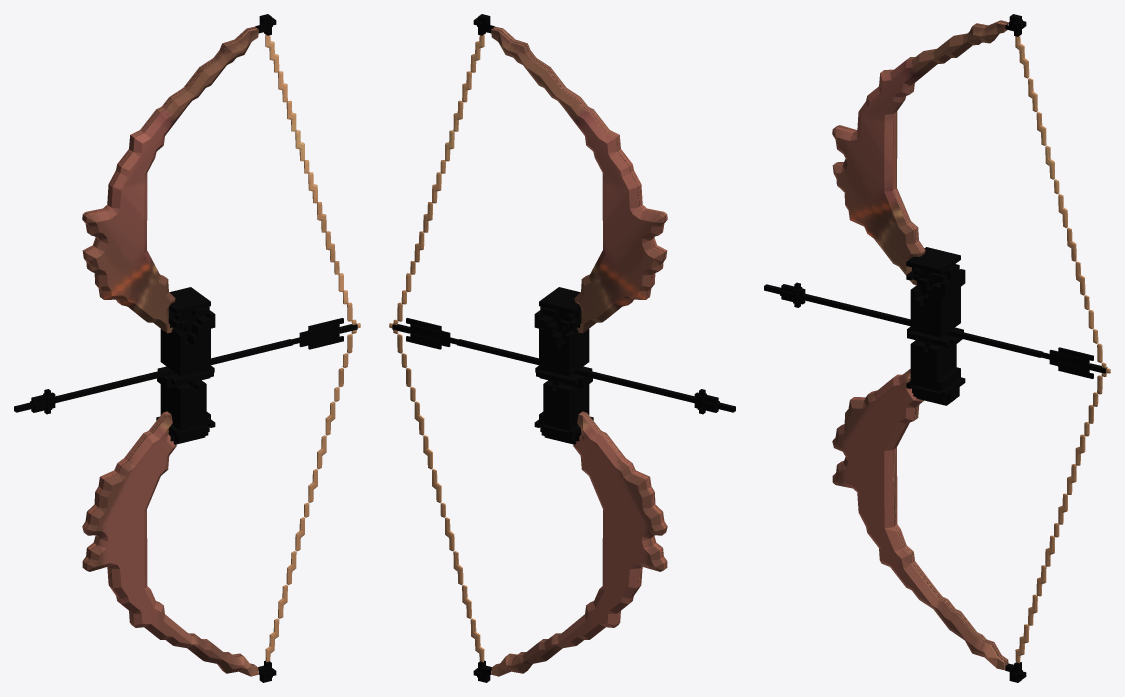
Rendered from ember_bow_pulling_2.obj.
The picture shows the model from 3 angles, left to right: view 1: azimuth 30°, elevation 25°; view 2: azimuth 150°, elevation 25°; view 3: azimuth 330°, elevation 25°; orthographic projection.
Visible parts, largest first — view 1: ember_bow_pulling_2; view 2: ember_bow_pulling_2; view 3: ember_bow_pulling_2.
Boxes of the visible parts, box(x1,y1,x2,y2) form: ember_bow_pulling_2: box(14, 14, 360, 682); ember_bow_pulling_2: box(389, 14, 735, 682); ember_bow_pulling_2: box(764, 14, 1110, 682).
Size of the model in its own units: 0.833 by 1.53 by 0.0833.
